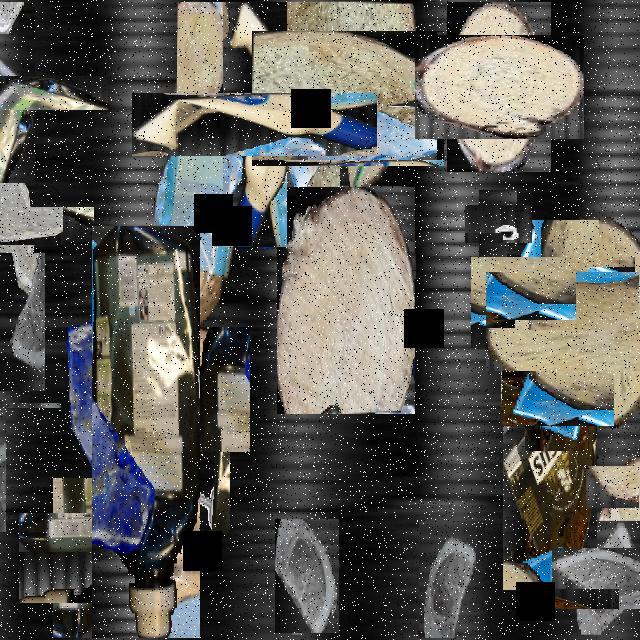glass: (489, 238, 617, 366), (61, 306, 155, 473), (36, 496, 160, 620), (264, 58, 340, 194), (512, 350, 602, 439), (419, 521, 485, 638), (275, 519, 339, 633), (564, 535, 640, 621), (0, 253, 45, 391), (0, 179, 66, 272)
metal: (182, 448, 230, 533), (472, 198, 524, 250)
plastic: (92, 226, 200, 638), (154, 62, 240, 372), (178, 47, 332, 202), (503, 398, 597, 590), (150, 327, 250, 452), (0, 340, 67, 470), (0, 38, 71, 146)
wood: (277, 187, 415, 414), (266, 16, 430, 180), (513, 244, 640, 399), (430, 18, 568, 156), (177, 2, 225, 112), (591, 460, 640, 513)
